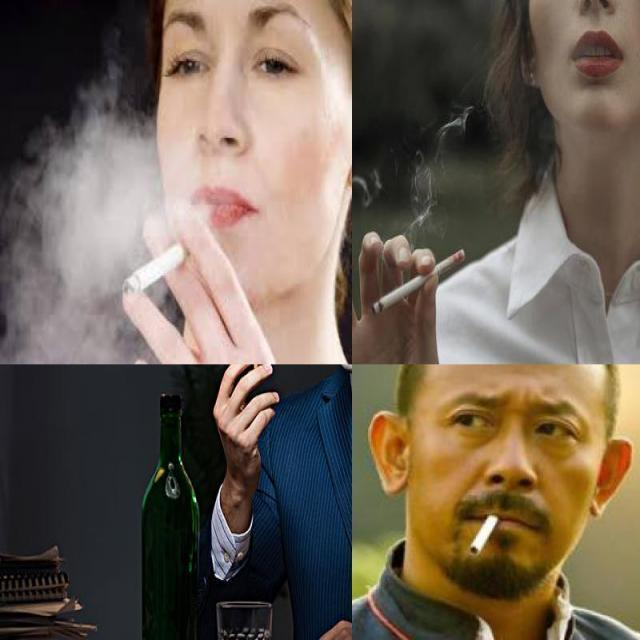smoke: (349, 230, 466, 315), (124, 238, 194, 298), (458, 506, 497, 554), (253, 364, 264, 375)
